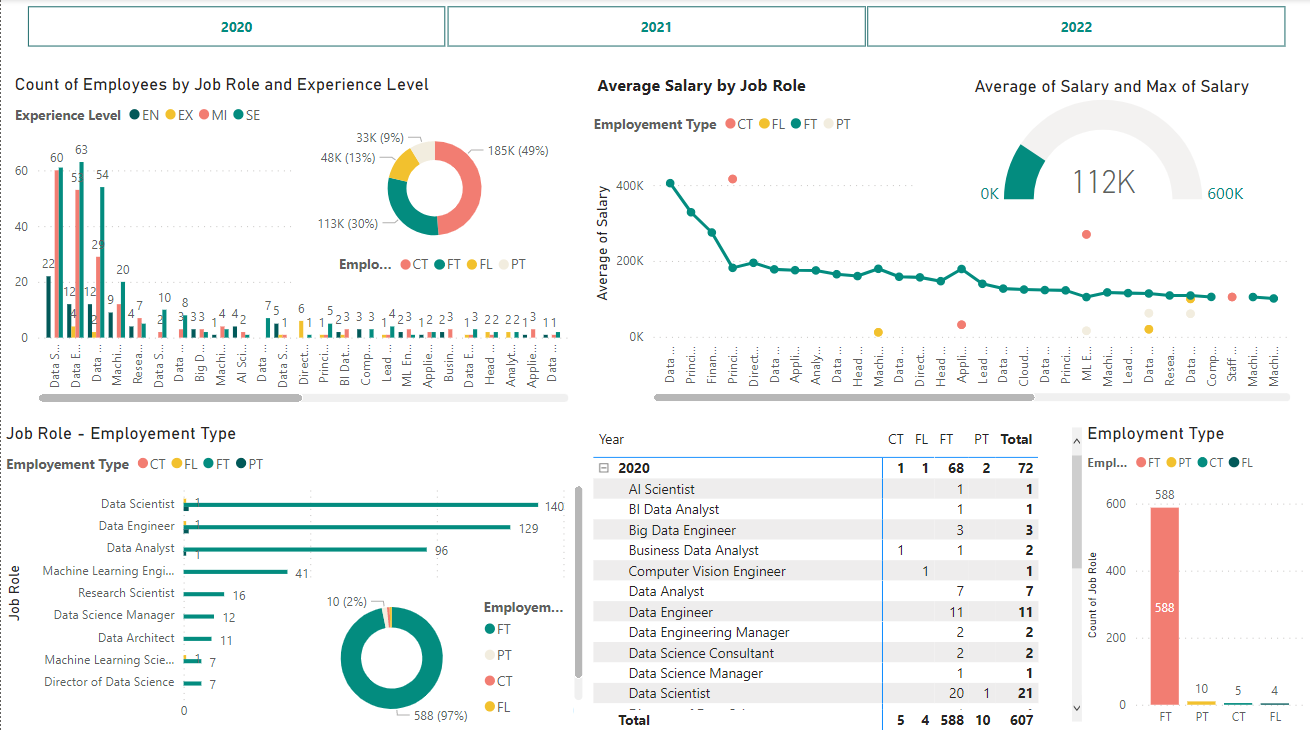

What the dashboard file says about the page in this screenshot:
{"tool":"powerbi","page":{"name":"Page 3","canvas":[1280,720],"ordinal":2},"visuals":[{"type":"lineChart","fields":{"Category":["ds_salaries.job_title"],"Y":["Avg(ds_salaries.salary_in_usd)"],"Series":["ds_salaries.Employement Type"]},"box":[574.3,101.4,691.4,297.1],"z":0},{"type":"slicer","fields":{"Values":["ds_salaries.work_year"]},"box":[0,0,1280,53.8],"z":1000},{"type":"textbox","box":[578.6,67.1,300,34.3],"z":2000},{"type":"clusteredColumnChart","title":"Count of Employees by Job Role and Experience Level","fields":{"Category":["ds_salaries.job_title"],"Series":["ds_salaries.experience_level"],"Y":["CountNonNull(ds_salaries.experience_level)"]},"box":[8.6,72.9,551,325.7],"z":3000},{"type":"clusteredBarChart","title":"Job Role - Employement Type","fields":{"Category":["ds_salaries.job_title"],"Series":["ds_salaries.employment_type"],"Y":["CountNonNull(ds_salaries.employment_type)"]},"box":[0,414.3,574.1,300.2],"z":4000},{"type":"gauge","fields":{"Y":["Avg(ds_salaries.Salary)"],"MaxValue":["Max(ds_salaries.Salary)"]},"box":[892,74,388,131],"z":5000},{"type":"pivotTable","fields":{"Rows":["ds_salaries.Year","ds_salaries.Job Role"],"Values":["CountNonNull(ds_salaries.Job Role)"],"Columns":["ds_salaries.Employement Type"]},"box":[574.3,414.3,487.1,305.7],"z":6000},{"type":"donutChart","fields":{"Category":["ds_salaries.Employement Type"],"Y":["Avg(ds_salaries.Salary)"]},"box":[287.5,121.2,273.8,157.5],"z":7000},{"type":"columnChart","title":"Employment Type","fields":{"Series":["ds_salaries.employment_type"],"Y":["CountNonNull(ds_salaries.job_title)"],"Category":["ds_salaries.employment_type"]},"box":[1057.1,414.3,222.9,305.7],"z":8000},{"type":"donutChart","fields":{"Category":["ds_salaries.Employement Type"],"Y":["CountNonNull(ds_salaries.Job Role)"]},"box":[287.5,570,272.5,150],"z":9000}]}

Visuals, with their boxes in screenshot pixels (x1, y1, x2, y2), scaled from the page's 1280x720 canvas onto the 1310x731 screenshot:
lineChart - ds_salaries.job_title x Avg(ds_salaries.salary_in_usd): l=588, t=103, r=1295, b=405
slicer - ds_salaries.work_year: l=0, t=0, r=1309, b=55
textbox: l=592, t=68, r=899, b=103
"Count of Employees by Job Role and Experience Level" clusteredColumnChart: l=9, t=74, r=573, b=405
"Job Role - Employement Type" clusteredBarChart: l=0, t=421, r=588, b=725
gauge - Avg(ds_salaries.Salary) x Max(ds_salaries.Salary): l=913, t=75, r=1309, b=208
pivotTable - ds_salaries.Year x ds_salaries.Job Role: l=588, t=421, r=1086, b=730
donutChart - ds_salaries.Employement Type x Avg(ds_salaries.Salary): l=294, t=123, r=574, b=283
"Employment Type" columnChart: l=1082, t=421, r=1309, b=730
donutChart - ds_salaries.Employement Type x CountNonNull(ds_salaries.Job Role): l=294, t=579, r=573, b=730
